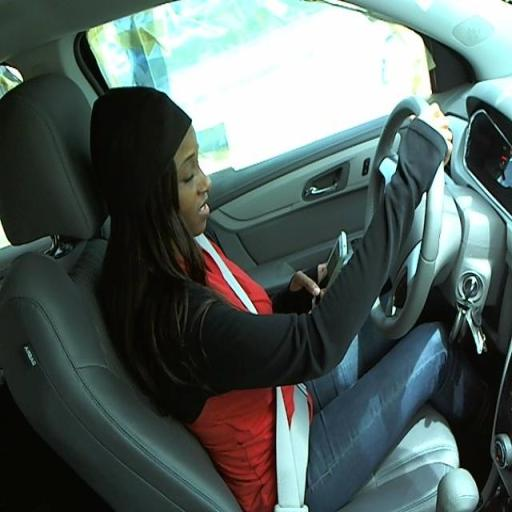texting_phone: (90, 97, 454, 442)
